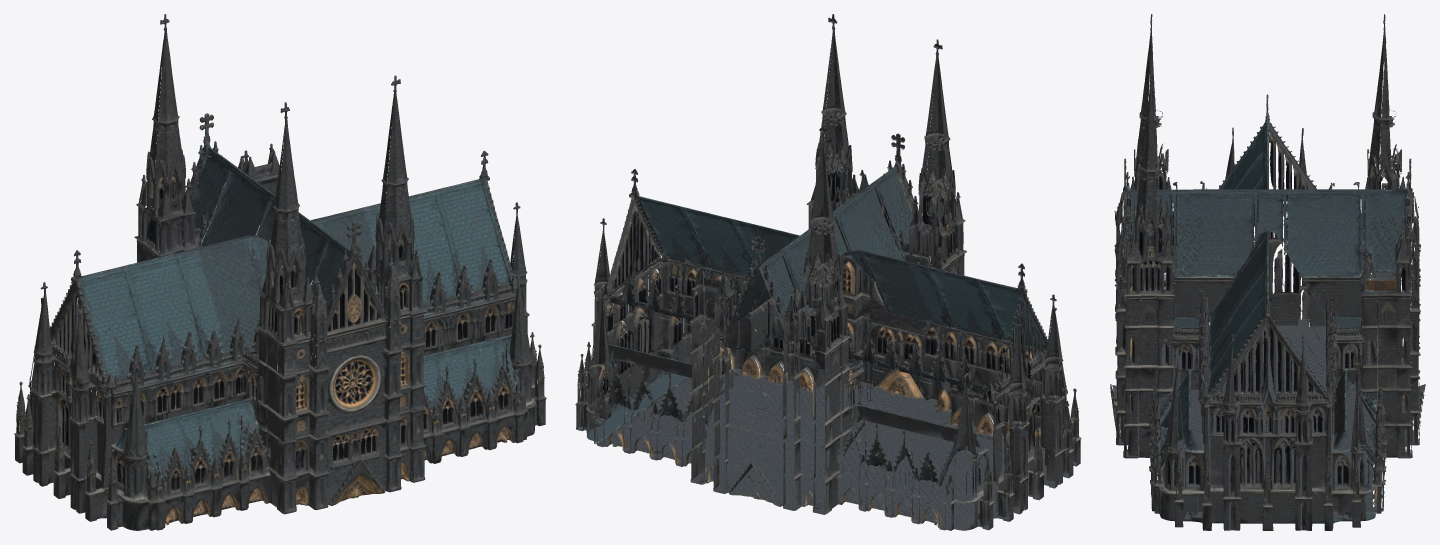
File: cathedral_spires.glb
3 views of the same model, side by side, from view 1: azimuth 30°, elevation 25°; view 2: azimuth 150°, elevation 25°; view 3: azimuth 270°, elevation 25° (orthographic). The views are drawn at different scales.
Bounding box in the file's own units: 1.9 × 1.6 × 1.19.
1 material, 1 textured.
